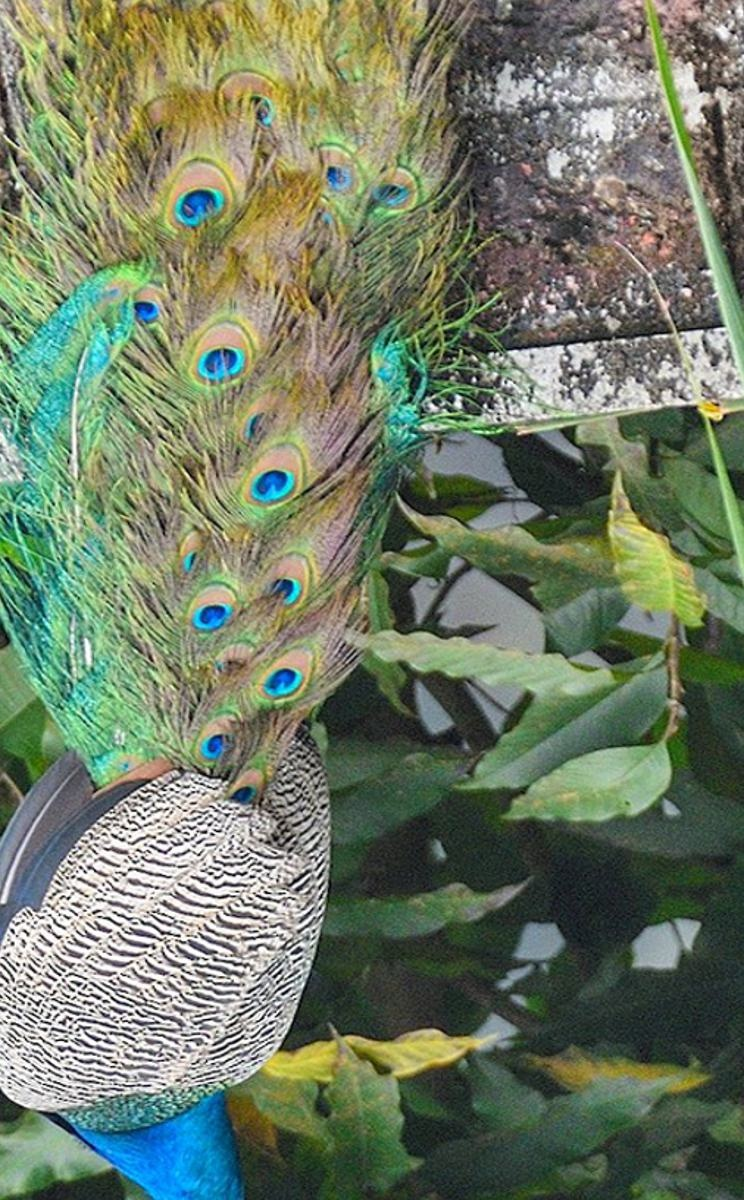peacock: (1, 14, 484, 1200)
